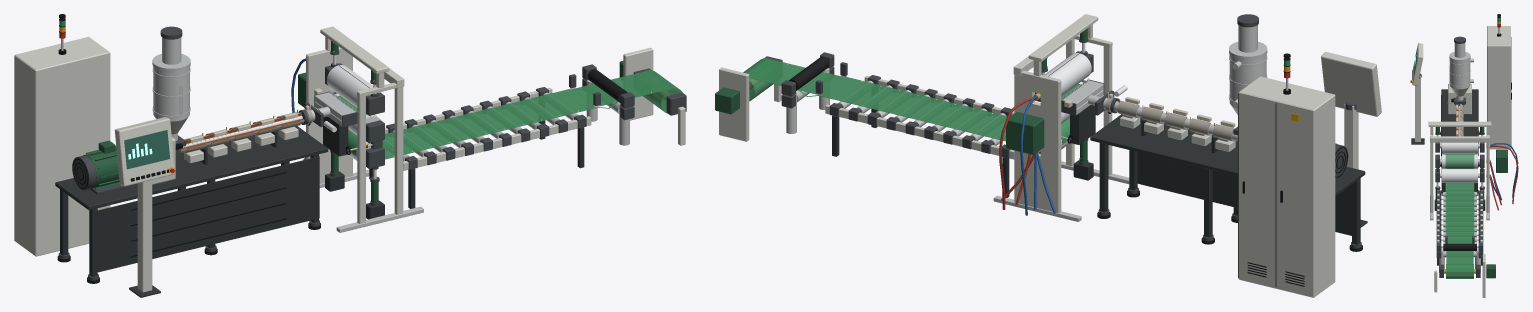
Rendered from sheet-motion.glb.
3 views of the same model, side by side, from view 1: azimuth 30°, elevation 25°; view 2: azimuth 150°, elevation 25°; view 3: azimuth 270°, elevation 25° (orthographic). The views are drawn at different scales.
Parts seen in each view (by area): view 1: Extruder, Control cabinet, StackFrame, Operator panel head, Extruder hopper, RollerTableAndTrim, Operator panel stand, WinderFrame, AdapterAndFeedPipe, TopRoll_body, Flat die, BottomGapAdjusters (+4 smaller); view 2: Control cabinet, Extruder, StackFrame, RollerTableAndTrim, Operator panel head, Extruder hopper, WinderFrame, AdapterAndFeedPipe, TopRoll_body, TopRoll stand, Operator panel stand, Flat die (+1 smaller); view 3: Control cabinet, StackFrame, Extruder, Extruder hopper, MiddleRoll_body, BottomRoll_body, TopRoll_body, Operator panel stand, Winder_body, WinderFrame, RollerTableAndTrim, TopRoll stand (+34 smaller).
Boxes of the visible parts, bbox=[...] form: Extruder: bbox=[55, 109, 328, 283]; Control cabinet: bbox=[14, 36, 110, 256]; StackFrame: bbox=[298, 26, 423, 232]; Operator panel head: bbox=[114, 117, 174, 186]; Extruder hopper: bbox=[152, 26, 190, 149]; RollerTableAndTrim: bbox=[369, 74, 629, 208]; Operator panel stand: bbox=[129, 180, 160, 297]; WinderFrame: bbox=[619, 47, 685, 145]; AdapterAndFeedPipe: bbox=[304, 102, 348, 156]; TopRoll_body: bbox=[327, 65, 380, 107]; Flat die: bbox=[314, 88, 357, 127]; BottomGapAdjusters: bbox=[307, 123, 384, 219]; Control cabinet: bbox=[1238, 76, 1335, 297]; Extruder: bbox=[1090, 97, 1365, 251]; StackFrame: bbox=[993, 14, 1129, 221]; RollerTableAndTrim: bbox=[786, 62, 1014, 197]; Operator panel head: bbox=[1321, 52, 1381, 116]; Extruder hopper: bbox=[1229, 14, 1267, 135]; WinderFrame: bbox=[715, 67, 781, 141]; AdapterAndFeedPipe: bbox=[1070, 85, 1127, 144]; TopRoll_body: bbox=[1045, 53, 1091, 95]; TopRoll stand: bbox=[999, 51, 1093, 215]; Operator panel stand: bbox=[1344, 102, 1367, 227]; Flat die: bbox=[1061, 78, 1104, 115]; Control cabinet: bbox=[1487, 26, 1511, 149]; StackFrame: bbox=[1428, 121, 1507, 220]; Extruder: bbox=[1440, 83, 1479, 195]; Extruder hopper: bbox=[1449, 36, 1473, 104]; MiddleRoll_body: bbox=[1440, 154, 1479, 168]; BottomRoll_body: bbox=[1440, 169, 1479, 182]; TopRoll_body: bbox=[1440, 142, 1479, 153]; Operator panel stand: bbox=[1411, 73, 1424, 144]; Winder_body: bbox=[1446, 264, 1473, 278]; WinderFrame: bbox=[1434, 254, 1495, 297]; RollerTableAndTrim: bbox=[1437, 190, 1482, 272]; TopRoll stand: bbox=[1435, 142, 1518, 203].
Size of the model in its own units: 6.54 by 2.34 by 1.8.
